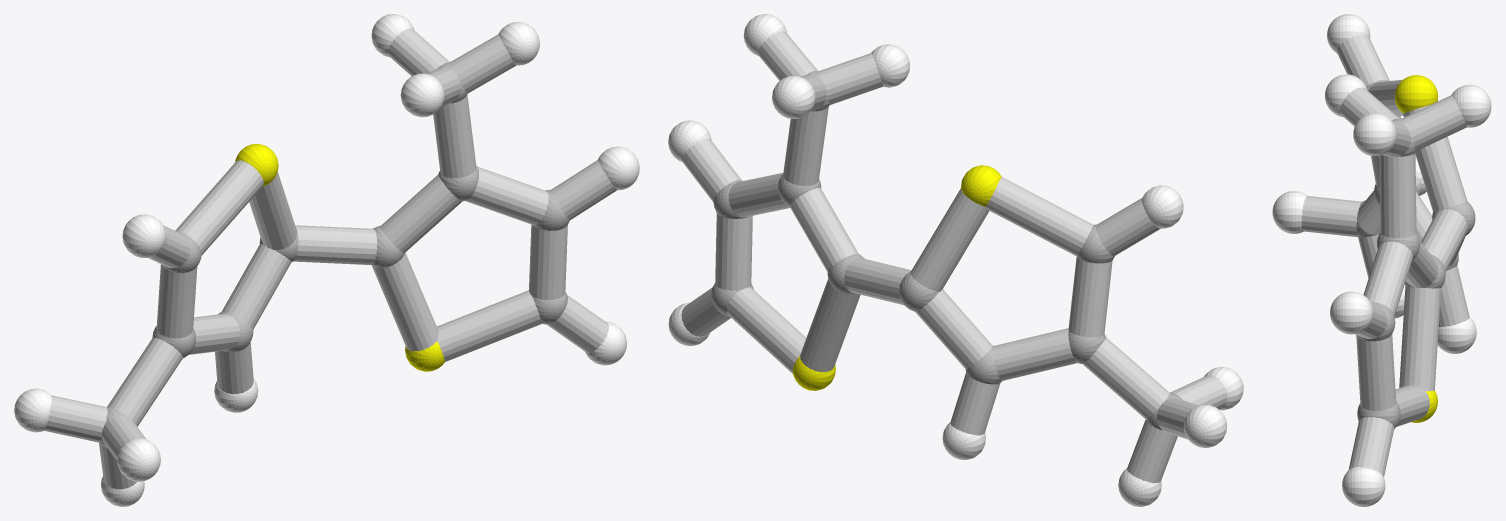
File: Methylthiophene_Phi_40_Theta_0_Methylthiophene.glb
The picture shows the model from 3 angles, left to right: view 1: azimuth 30°, elevation 25°; view 2: azimuth 150°, elevation 25°; view 3: azimuth 270°, elevation 25°; orthographic projection.
Parts seen in each view (by area): view 1: grp7965, grp3621, grp1, grp7241; view 2: grp7965, grp3621, grp1, grp7241; view 3: grp7965, grp3621, grp1, grp7241.
Part boxes in pixels (box(x1,y1,x2,y2)): grp7965: box(44, 28, 616, 489); grp3621: box(14, 14, 639, 506); grp1: box(100, 62, 569, 447); grp7241: box(235, 144, 444, 371); grp7965: box(681, 31, 1226, 483); grp3621: box(668, 14, 1243, 506); grp1: box(711, 71, 1182, 430); grp7241: box(792, 165, 1001, 390); grp7965: box(1301, 34, 1469, 476); grp3621: box(1272, 14, 1491, 506); grp1: box(1356, 80, 1475, 428); grp7241: box(1394, 75, 1438, 422).
Bounding box in the file's own units: 9.29 × 5.92 × 3.03.
